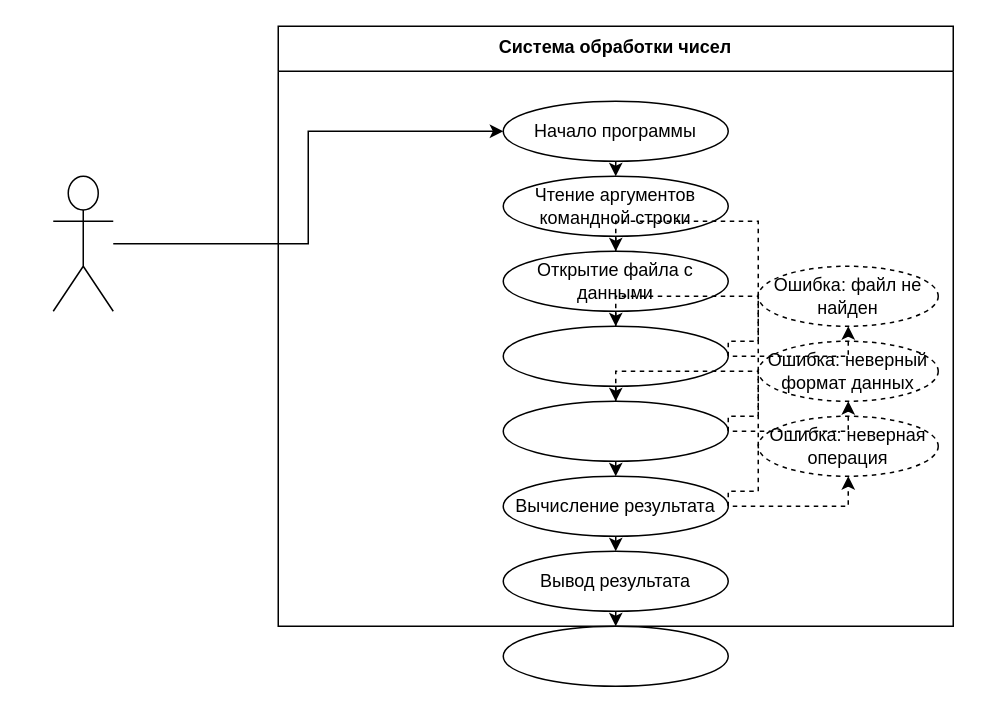
Image size: 981x713. Some labels were removed from this diagram. Here are the shapes that lost their labels. From the top down, the centre of each, then its label:
At point (82, 243): "Пользователь".
At point (615, 355): "Парсинг чисел из файла".
At point (615, 430): "Выбор операции (сумма/среднее/макс/мин)".
At point (615, 655): "Завершение программы".
